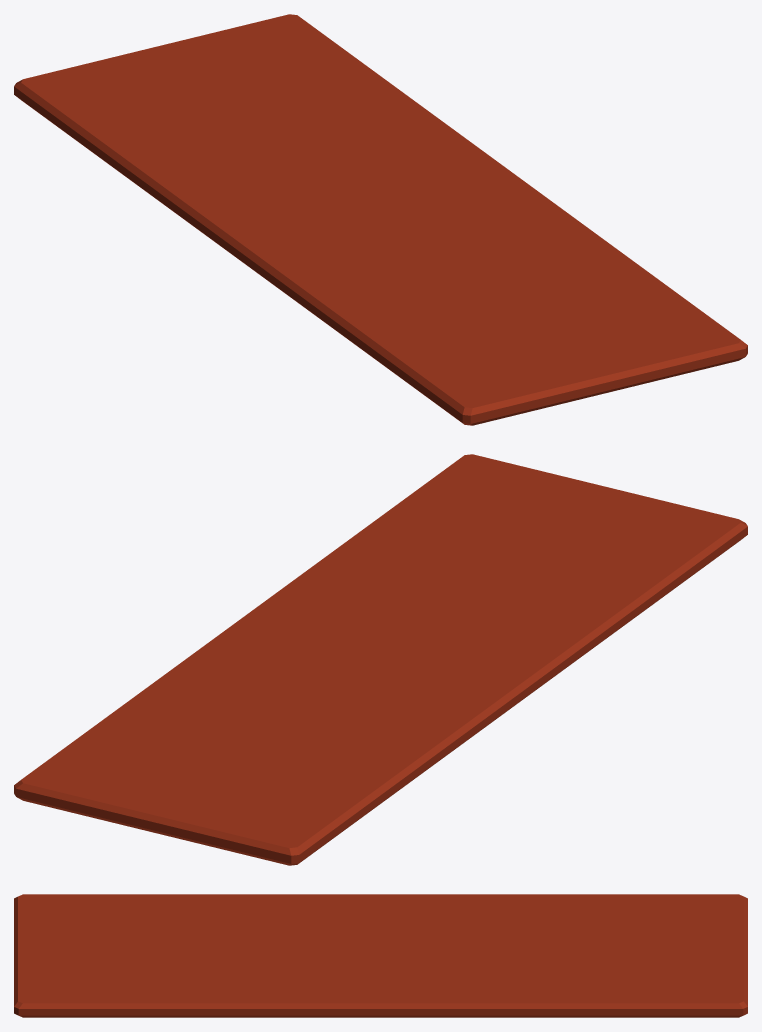
The picture shows the model from 3 angles, top to bottom: view 1: azimuth 30°, elevation 25°; view 2: azimuth 150°, elevation 25°; view 3: azimuth 270°, elevation 25°; orthographic projection. The views are drawn at different scales.
Parts seen in each view (by area): view 1: Sp_Mat_1; view 2: Sp_Mat_1; view 3: Sp_Mat_1.
Part boxes in pixels (box(x1,y1,x2,y2)): Sp_Mat_1: box(14, 14, 747, 425); Sp_Mat_1: box(14, 454, 747, 865); Sp_Mat_1: box(14, 894, 747, 1017).
Bounding box in the file's own units: 68.84 × 4.05 × 190.
Materials: 1 (1 with a texture image).
